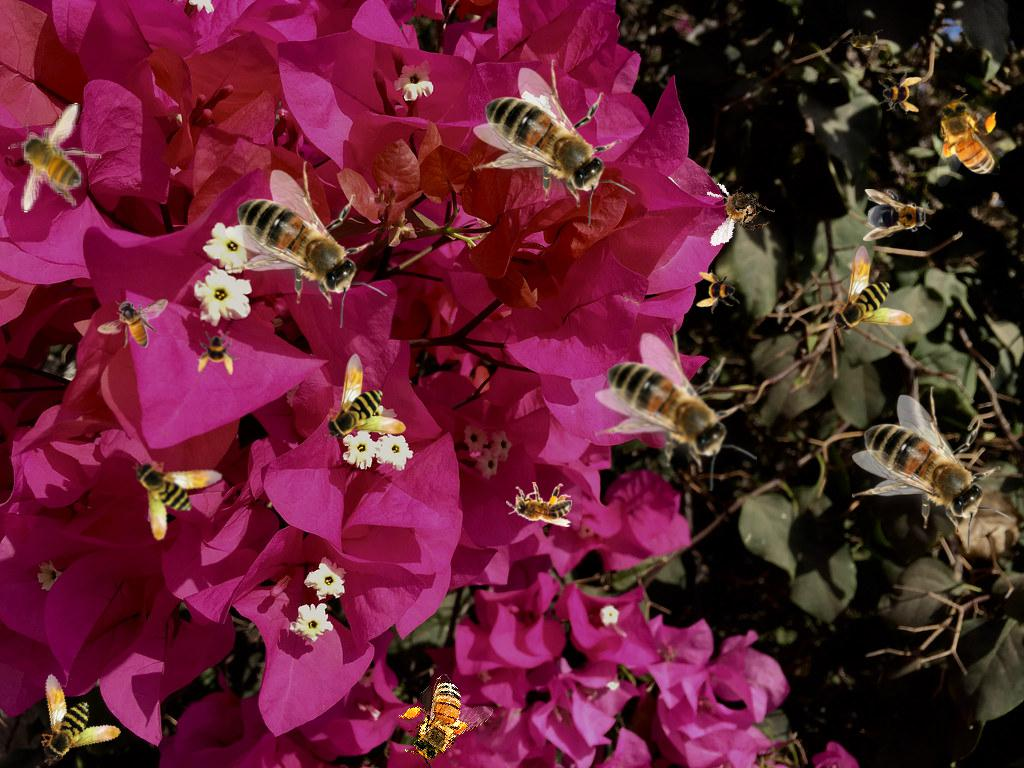Bee: (473, 59, 635, 226), (852, 386, 1014, 553), (595, 324, 757, 491), (225, 161, 387, 328), (383, 664, 499, 768), (19, 658, 125, 768), (8, 102, 102, 213), (130, 444, 234, 544), (831, 245, 913, 333), (324, 353, 406, 441), (932, 94, 1000, 187), (697, 171, 780, 247), (97, 298, 168, 348), (863, 189, 931, 241), (506, 482, 572, 527), (696, 270, 740, 314), (196, 331, 240, 375), (878, 70, 922, 114), (843, 29, 883, 51)
